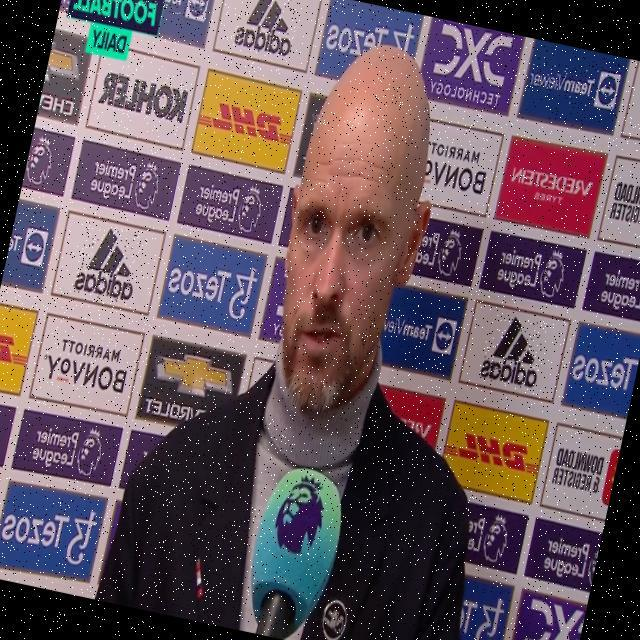Adidas: (72, 220, 144, 304), (478, 312, 549, 391), (230, 0, 303, 61)
Chevrolet: (142, 345, 237, 429)
Kohler: (98, 68, 190, 124)
TeamViewer: (524, 55, 620, 112), (114, 0, 211, 20)
